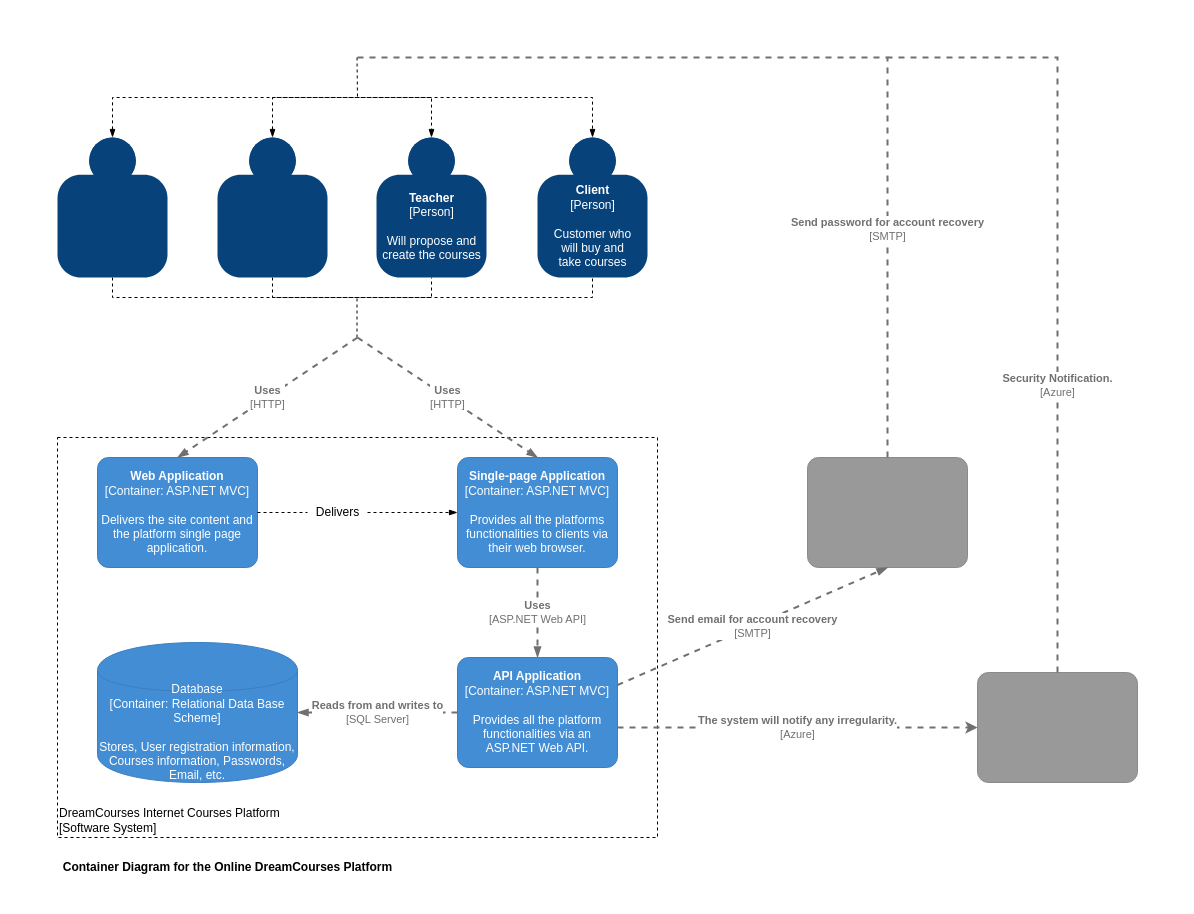
This 1194x914 diagram has some shape labels left out. The centre of each missing label's shape, as x and y in pixels:
"Administrator [Person] Will manage the entire platform" belongs at point (112, 207).
"Area Supervisor [Person] Will accept or reject the proposed courses" belongs at point (272, 207).
"Azure Security [Software System] Security that notifies users of failures." belongs at point (1057, 727).
"E-mail System [Software System] Internal account recovery system." belongs at point (887, 512).
